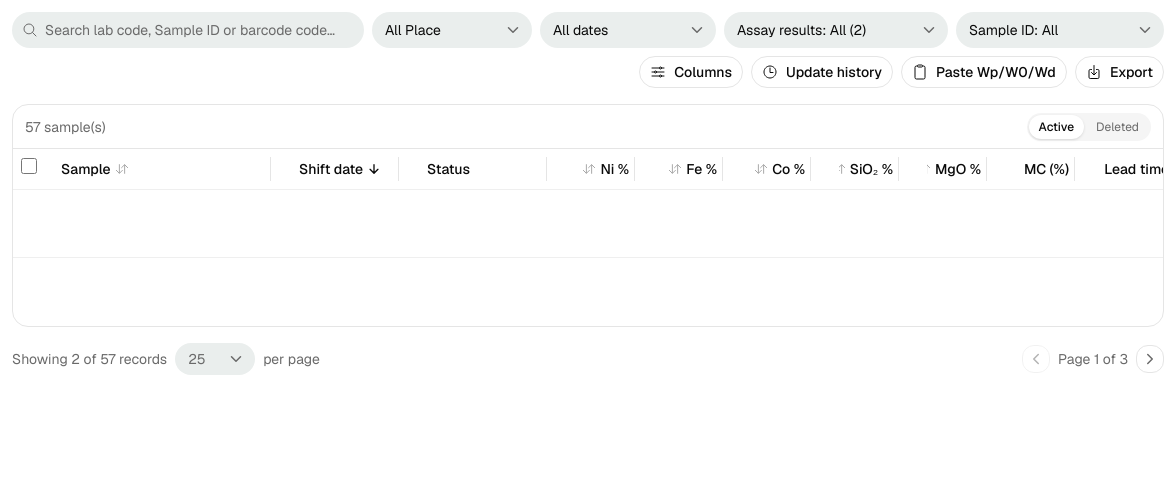
Scenario: filling in identities › offers every record that matches once the whole page is ticked
Step 1. Click the checkbox named "Select the rows on this page" → x=29, y=166, box [21,158,37,174]
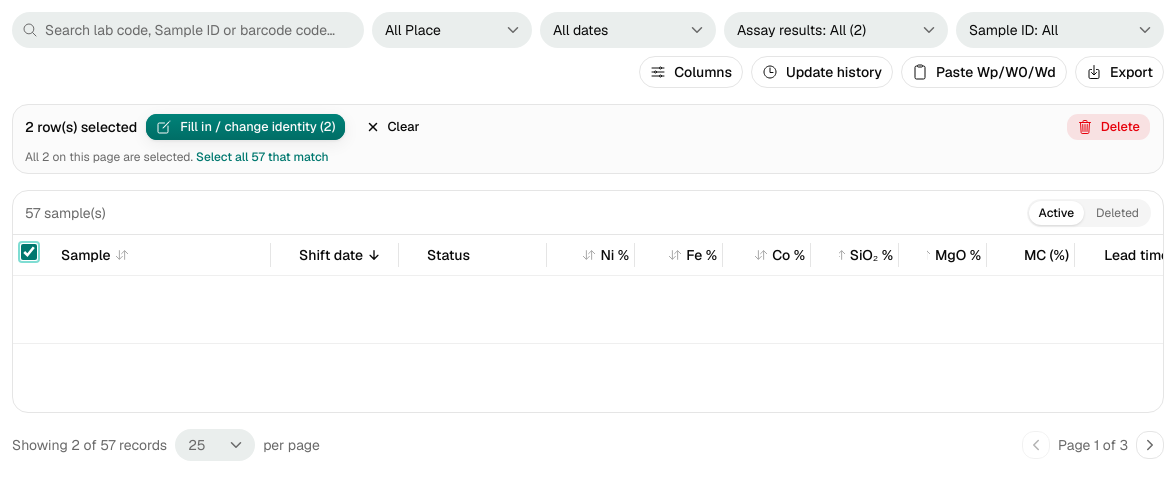
Result: the text "All 2 on this page are selected." is shown at [25,149,193,165]
Step 2. Click the button "Select all 57 that match" → x=262, y=157, box [196,149,329,165]
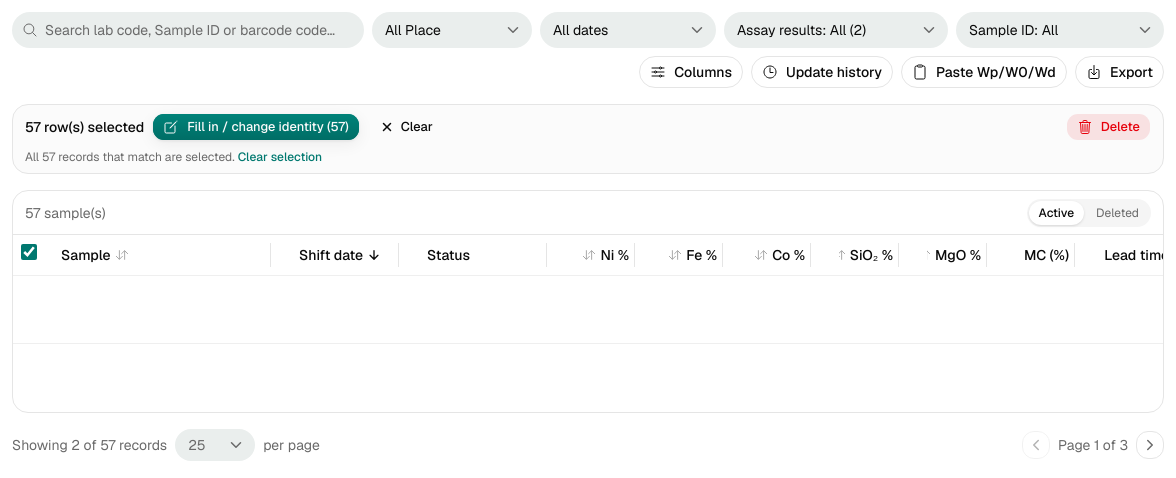
Result: the text "57 row(s) selected" is shown at [25,117,144,137]
Result: the text "All 57 records that match are selected." is shown at [25,149,235,165]
